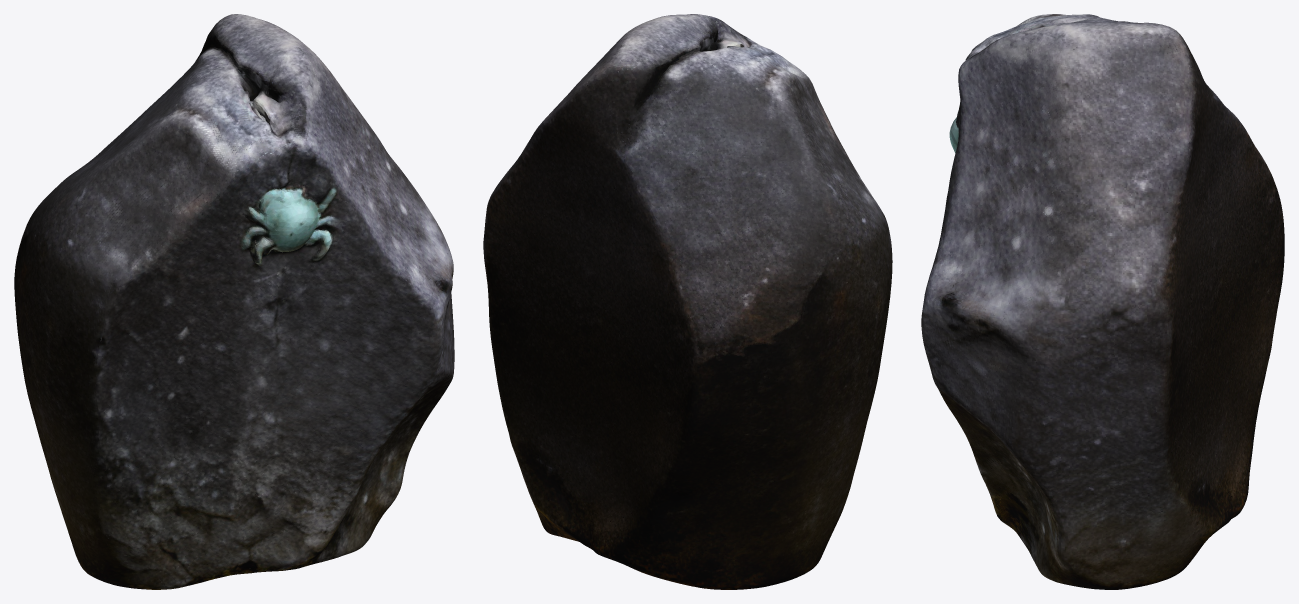
Rendered from shadowlands_waymarker.glb.
3 renders of one model, left to right at view 1: azimuth 30°, elevation 25°; view 2: azimuth 150°, elevation 25°; view 3: azimuth 270°, elevation 25°, orthographic. The views are drawn at different scales.
Parts seen in each view (by area): view 1: temp_mesh.ply; view 2: temp_mesh.ply; view 3: temp_mesh.ply.
Boxes of the visible parts, bbox=[...] form: temp_mesh.ply: bbox=[14, 14, 454, 589]; temp_mesh.ply: bbox=[483, 14, 892, 589]; temp_mesh.ply: bbox=[921, 14, 1284, 589].
Size of the model in its own units: 1.53 by 1.97 by 1.25.
1 material, 1 textured.
